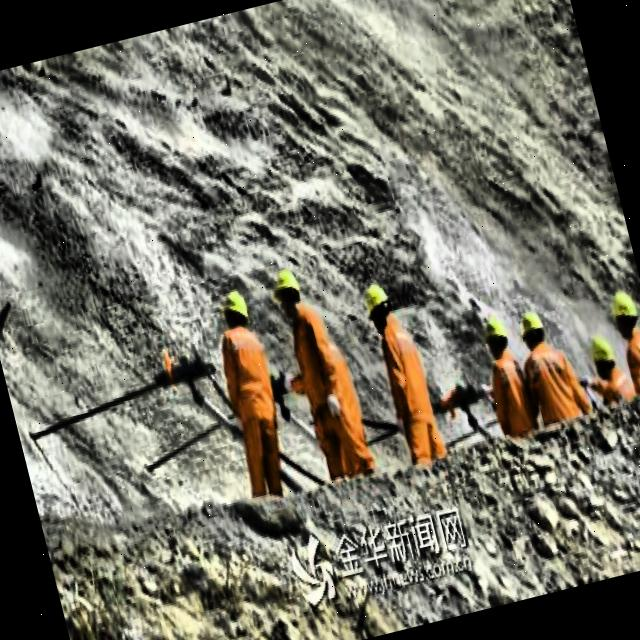helmet: (582, 330, 625, 390), (266, 264, 307, 322), (357, 276, 398, 332), (218, 282, 256, 341), (605, 281, 640, 345), (512, 306, 552, 356), (477, 314, 512, 364)
